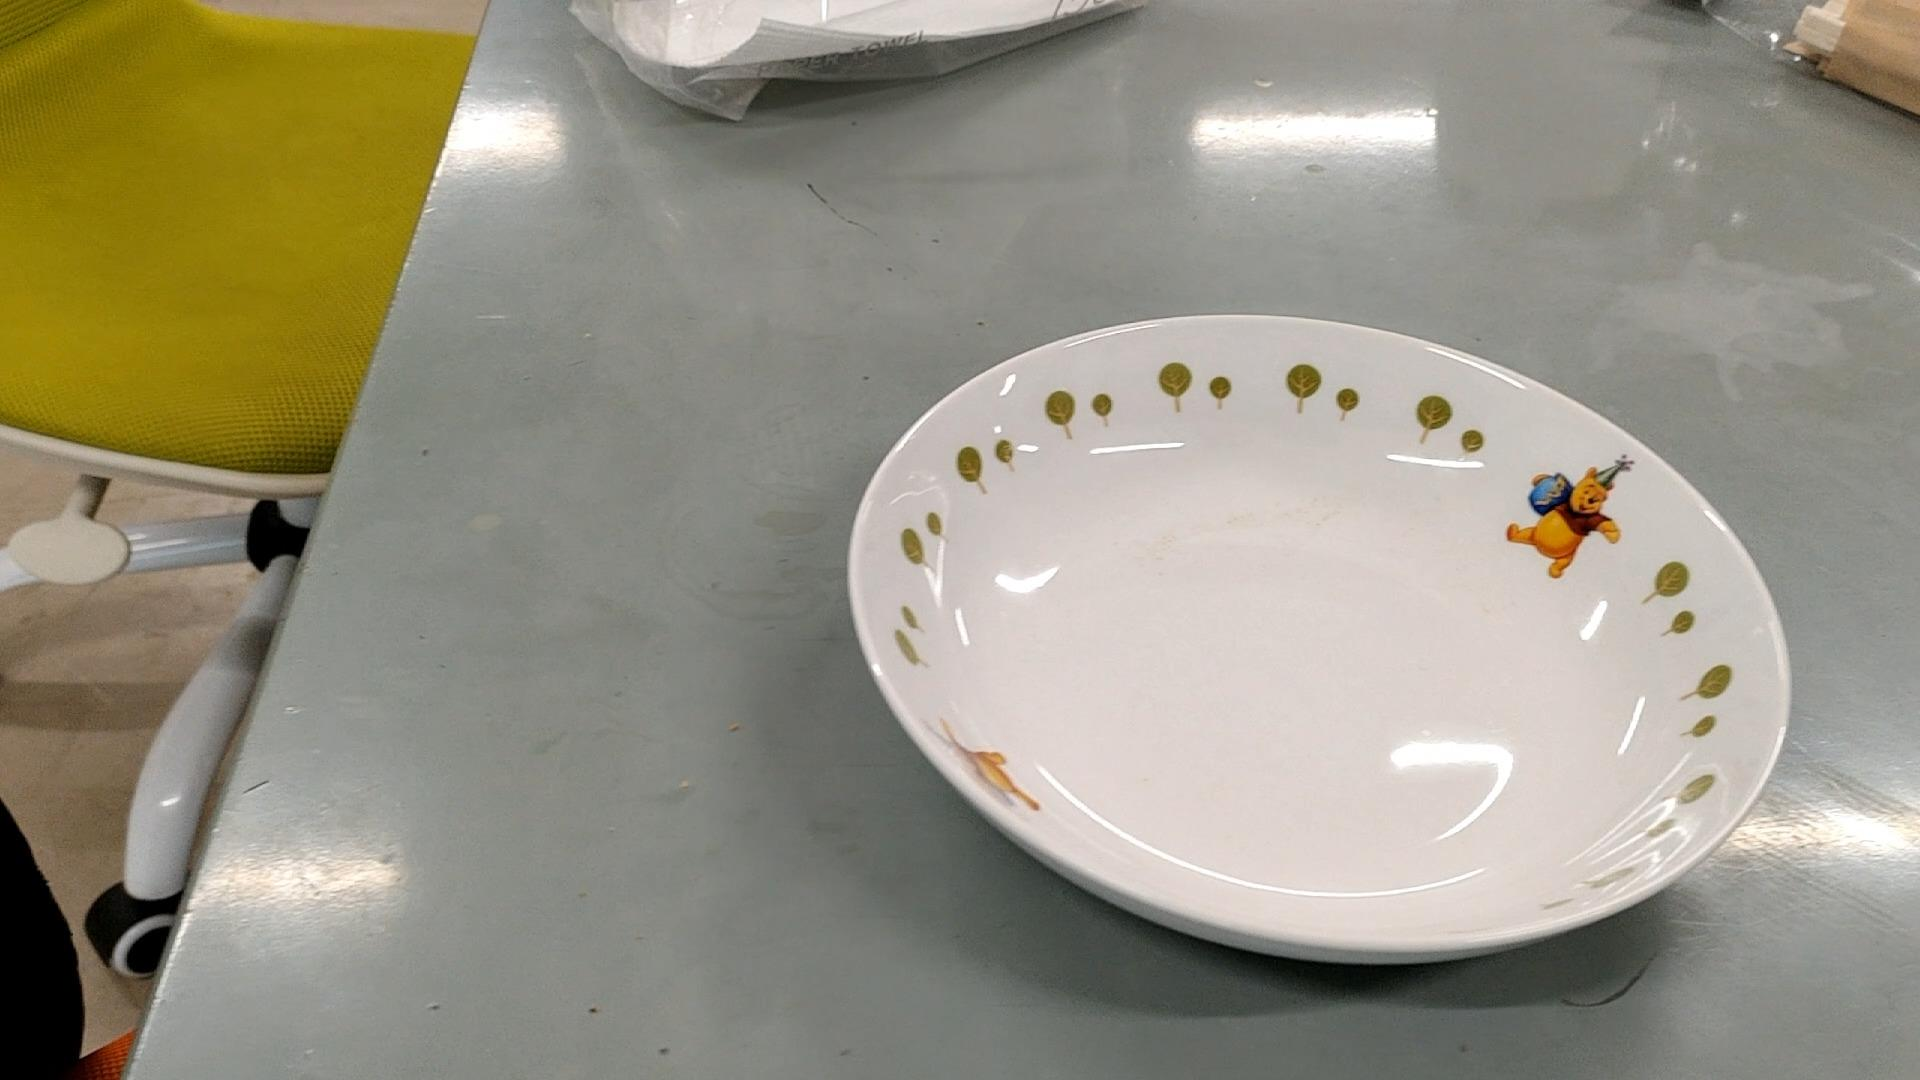plate: (845, 315, 1791, 968)
